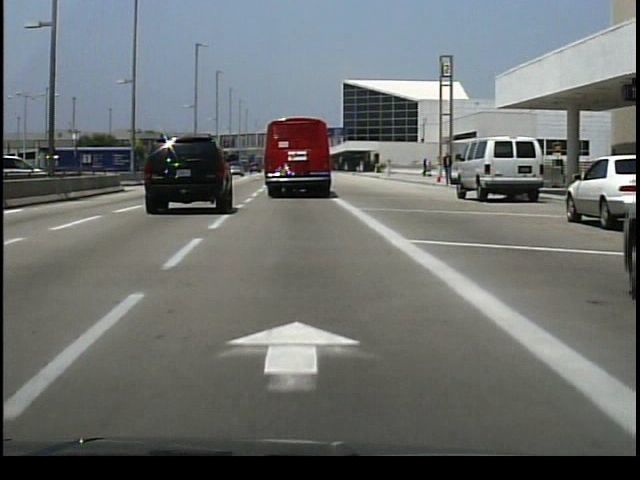person: (440, 152, 455, 191)
